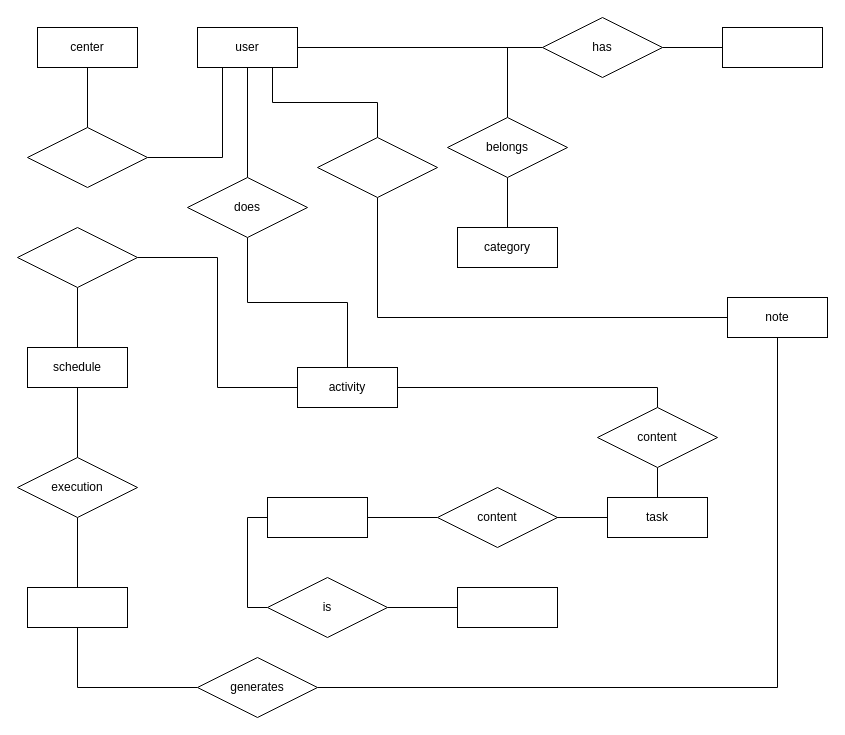
This 845x735 diagram has some shape labels left out. The shapes that lost their labels are listed below. From the top down, each one's centre as x and y in pixels, then its label:
[772,47]: role
[87,157]: serve
[377,167]: comunicate
[77,257]: apoint
[317,517]: task_item
[77,607]: incident
[507,607]: item_type
